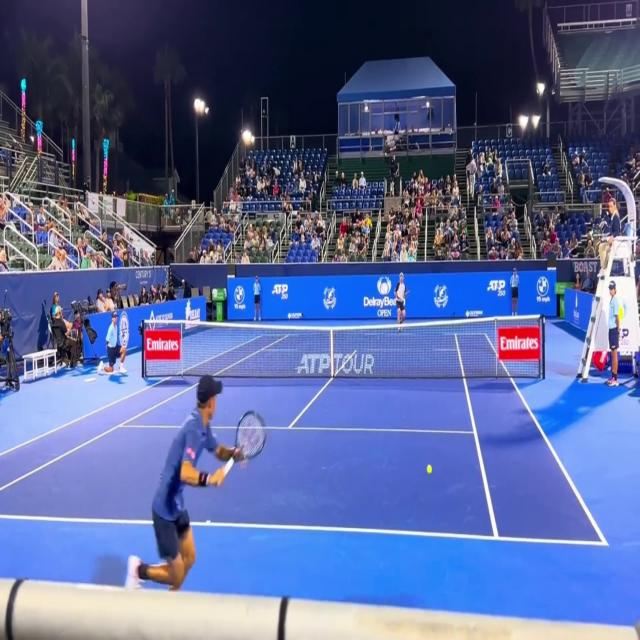tennisBall: (424, 458, 436, 485)
